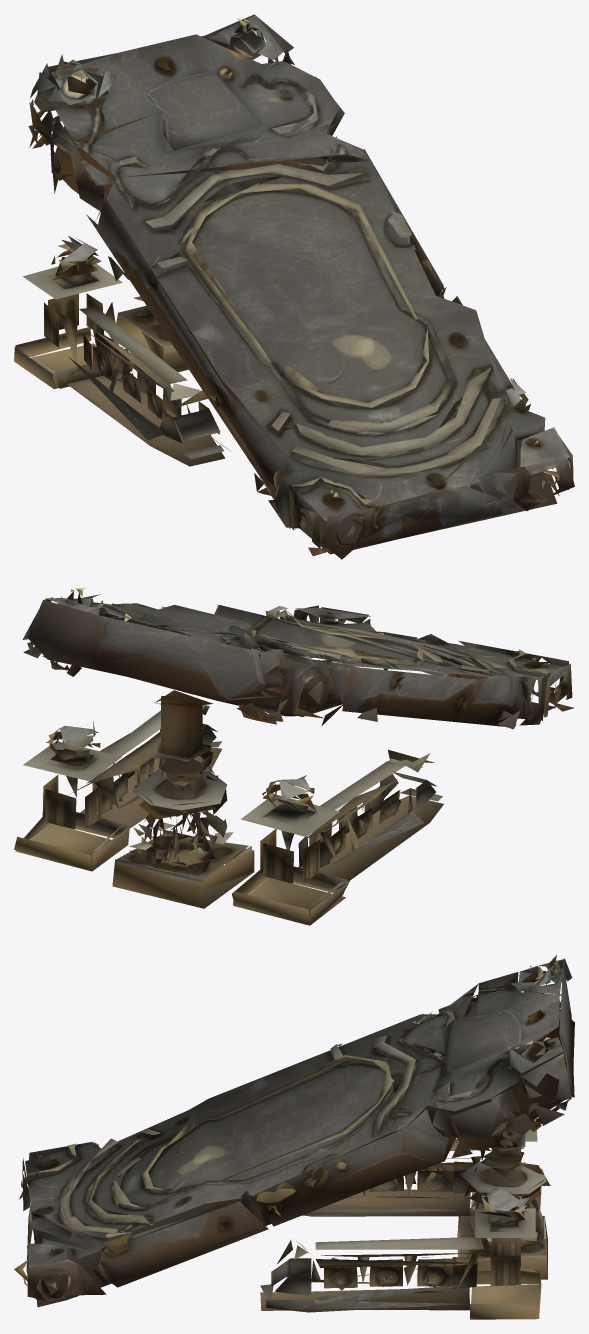
Rendered from ch3_fallen_bridge_deck_chunk_LOD3.glb.
The picture shows the model from 3 angles, top to bottom: view 1: azimuth 30°, elevation 25°; view 2: azimuth 150°, elevation 25°; view 3: azimuth 270°, elevation 25°; orthographic projection. The views are drawn at different scales.
Visible parts, largest first — view 1: tripo_node_387b3207-5552-40fd-9a3f-8211c666c408; view 2: tripo_node_387b3207-5552-40fd-9a3f-8211c666c408; view 3: tripo_node_387b3207-5552-40fd-9a3f-8211c666c408.
Part boxes in pixels (x1,y1,x2,y2): tripo_node_387b3207-5552-40fd-9a3f-8211c666c408: (14,14,574,559); tripo_node_387b3207-5552-40fd-9a3f-8211c666c408: (14,588,573,925); tripo_node_387b3207-5552-40fd-9a3f-8211c666c408: (14,955,574,1319).
Size of the model in its own units: 0.5643 by 0.5273 by 1.01.
Materials: 1 (1 with a texture image).
